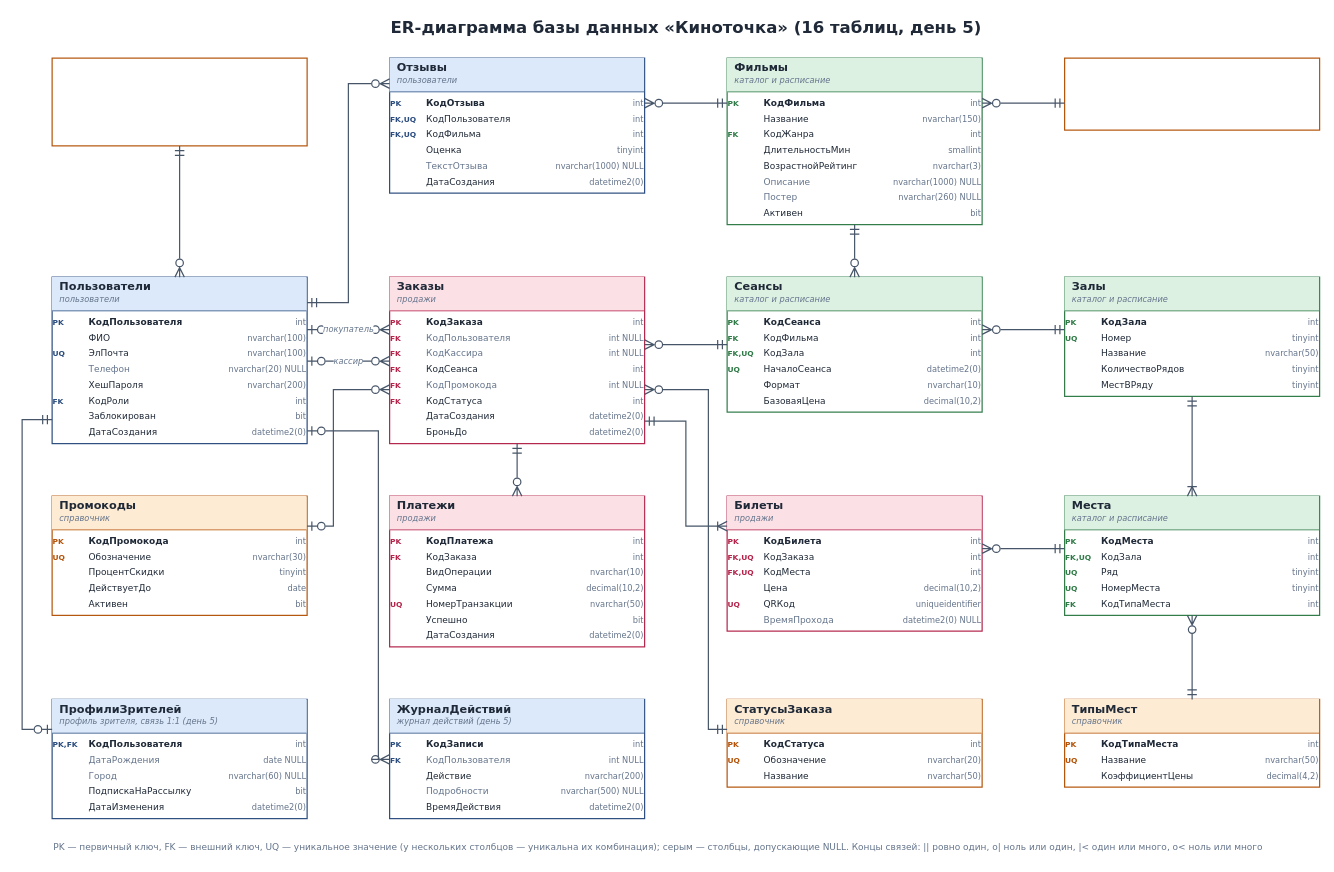
Image size: 1334x872. Some labels were removed from this diagram. The centre of each missing label's shape, as x and y in pixels:
"Жанры справочник PK КодЖанра int UQ Название nvarchar(50)" belongs at point 1192,93.
"Роли справочник PK КодРоли int UQ Обозначение nvarchar(20) Название nvarchar(50)" belongs at point 179,101.
